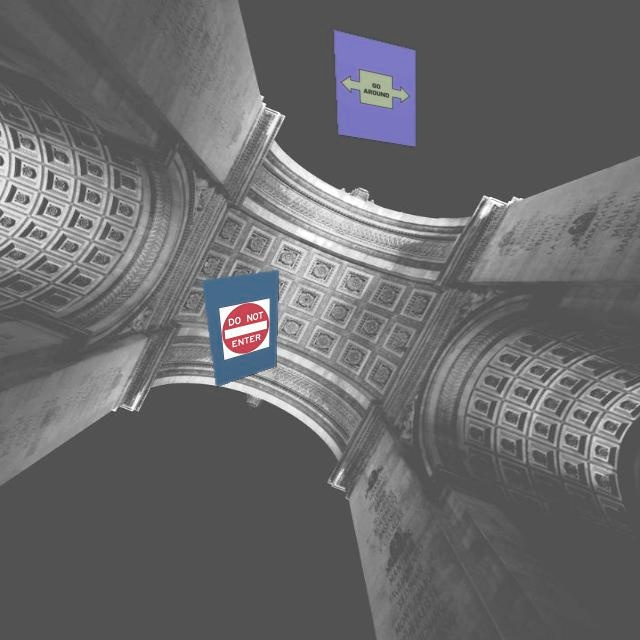DO_NOT_ENTER: (218, 296, 276, 360)
GO_AROUND: (340, 65, 410, 112)
